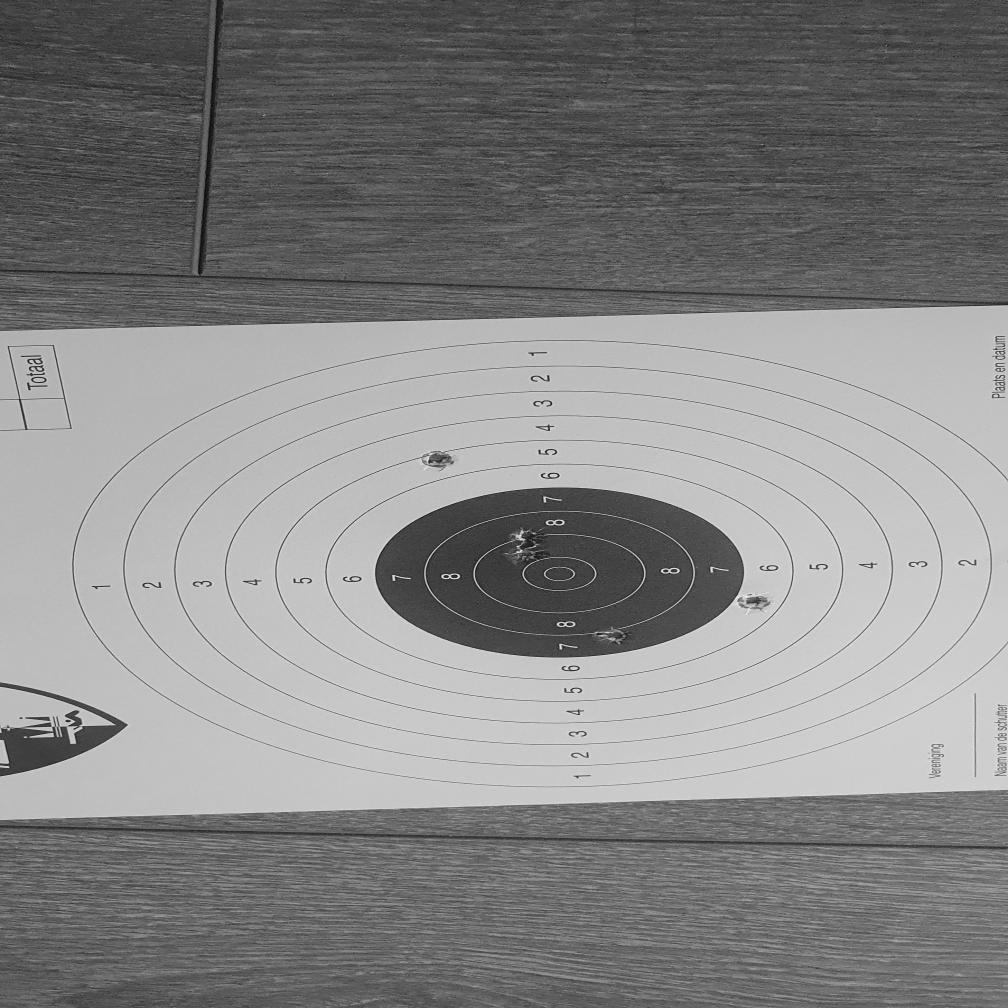5: (417, 450, 458, 471)
6: (734, 592, 780, 614)
8: (592, 627, 633, 645)
9: (505, 546, 546, 562), (509, 528, 546, 542)
Target: (66, 337, 1008, 790)
black_contour: (379, 488, 742, 658)
